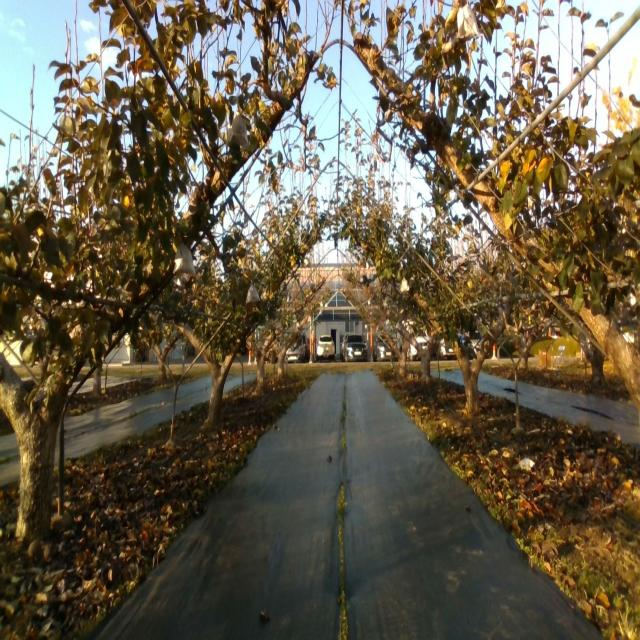pearbags: (228, 110, 250, 148), (456, 4, 479, 38), (174, 242, 196, 276), (245, 285, 260, 304)
